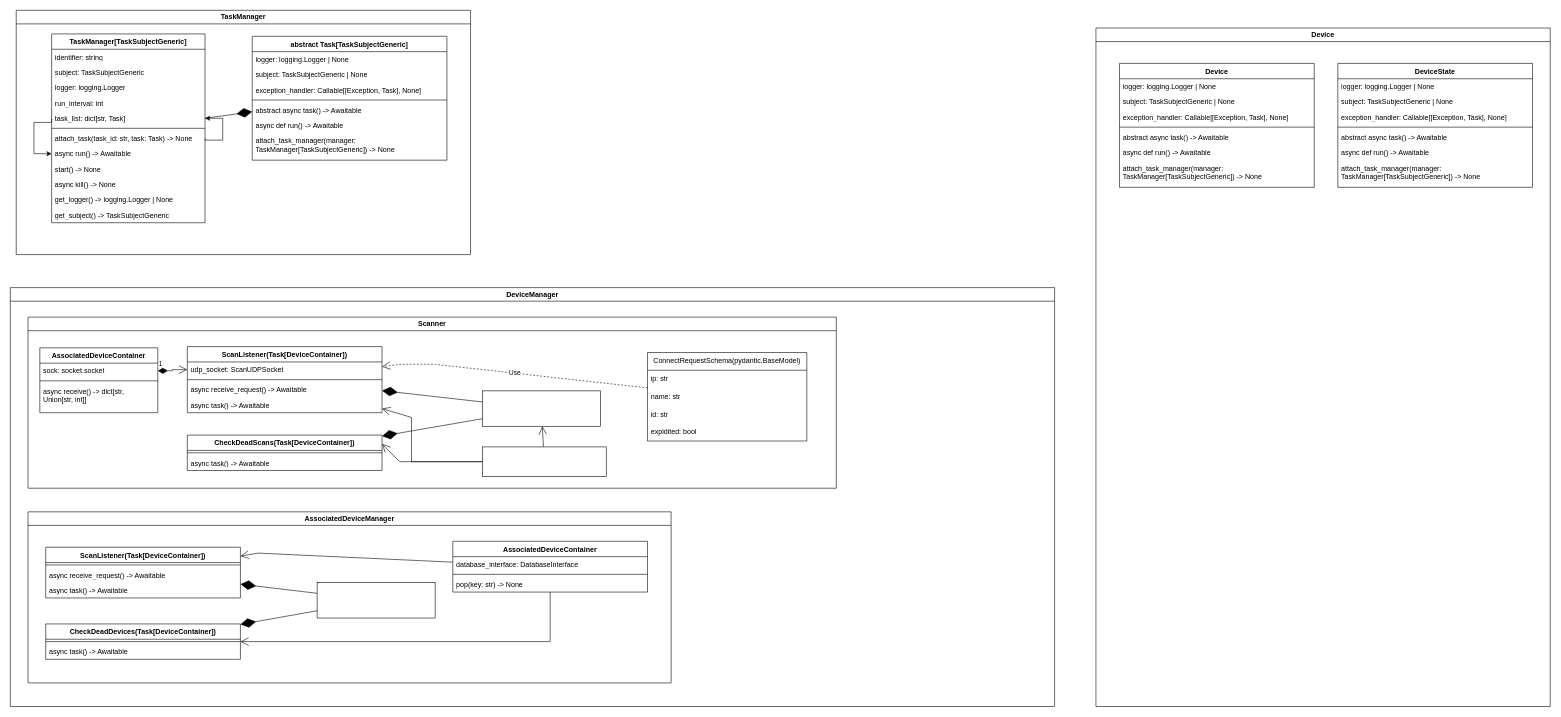
This 1561x717 diagram has some shape labels left out. Each missing label, with the centre of its shape:
"associated_device_manager: TaskManager[DeviceContainer]" belongs at point 376,600.
"DeviceContainer: dict[str, Device]" belongs at point 544,461.
"scanner: TaskManager[DeviceContainer]" belongs at point 541,408.
